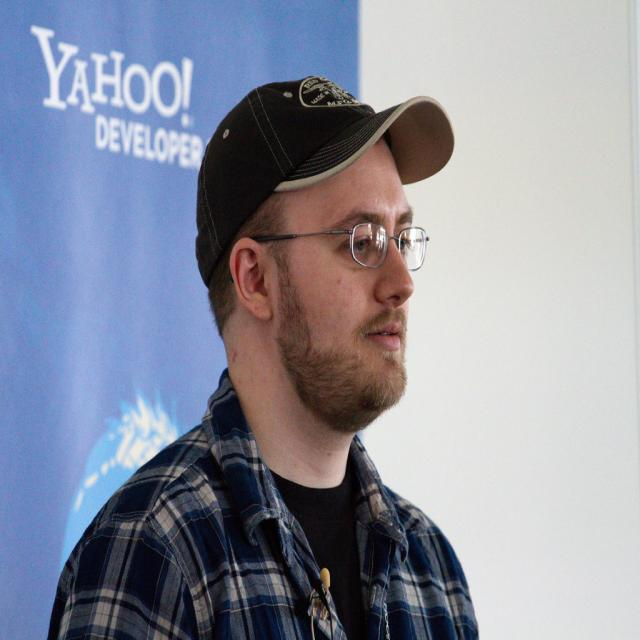Hat: (193, 70, 454, 284)
